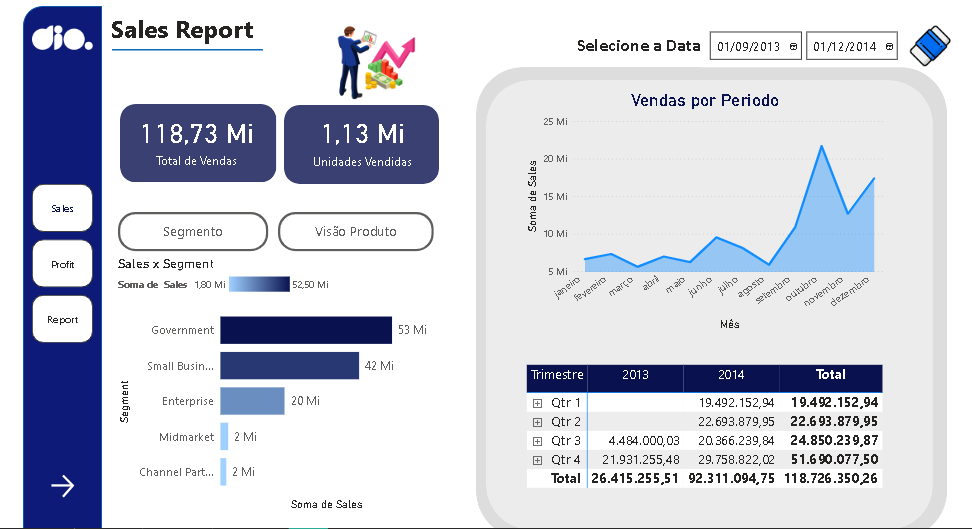

This screenshot's page, from the dashboard's own definition file:
{"tool":"powerbi","page":{"name":"Sales","canvas":[1280,720],"ordinal":0},"visuals":[{"type":"shape","box":[29.9,7.8,103.9,711.7],"z":0},{"type":"shape","box":[157.3,137.1,205.8,103.1],"z":0,"group":"g1"},{"type":"group","id":"g1","title":"Cartôes","box":[147.4,28,430.6,214],"z":1000},{"type":"shape","box":[374,138.2,204,103.8],"z":1000,"group":"g1"},{"type":"clusteredBarChart","title":"Sales x Segment","fields":{"Y":["Sum(financials. Sales)"],"Category":["financials.Segment"]},"box":[150,336.3,426,340.3],"z":1000,"group":"g2"},{"type":"textbox","box":[140.8,9.1,213.9,60.3],"z":2000},{"type":"card","fields":{"Values":["Sum(financials.Units Sold)"]},"box":[379.1,139.6,195.6,87.6],"z":2000,"group":"g1"},{"type":"actionButton","title":"B Segmento","box":[155.9,278.3,197.7,51.6],"z":2000,"group":"g2"},{"type":"shape","box":[626.7,88.3,620,620],"z":3000},{"type":"card","fields":{"Values":["Sum(financials. Sales)"]},"box":[159.2,135.4,198.1,93.3],"z":3000,"group":"g1"},{"type":"actionButton","title":"B Produto","box":[365.3,278.3,205,51.6],"z":3000,"group":"g2"},{"type":"shape","box":[147.4,28,198.6,75.7],"z":4000,"group":"g1"},{"type":"slicer","fields":{"Values":["financials.Date"]},"box":[921.6,31.1,265.1,56.7],"z":4000},{"type":"textbox","box":[754,40,180,48],"z":5000},{"type":"group","id":"g2","title":"Sales x Segment","box":[150,278.3,426,398.3],"z":6000},{"type":"actionButton","box":[61.7,620,60,40],"z":7000},{"type":"image","box":[41.7,10,80,78.3],"z":8000},{"type":"image","box":[1186.7,31.1,75,56.7],"z":9000},{"type":"shape","box":[640,105,588.3,591.7],"z":10000},{"type":"actionButton","box":[1192.2,31.1,71.3,56.7],"z":11000},{"type":"areaChart","title":"Vendas por Periodo","fields":{"Category":["financials.Date.Variation.Hierarquia de datas.Ano","financials.Date.Variation.Hierarquia de datas.Trimestre","financials.Date.Variation.Hierarquia de datas.Mês"],"Y":["Sum(financials. Sales)"]},"box":[687.2,118,482.2,321.5],"z":12000},{"type":"pivotTable","fields":{"Columns":["financials.Date.Variation.Hierarquia de datas.Ano"],"Rows":["financials.Date.Variation.Hierarquia de datas.Trimestre","financials.Date.Variation.Hierarquia de datas.Mês"],"Values":["Sum(financials. Sales)"]},"box":[687.5,475,482.5,185],"z":13000},{"type":"pageNavigator","box":[41.7,241.7,80,211.7],"z":14000},{"type":"image","box":[422.9,7.1,174.3,151.4],"z":15000}]}

Visuals, with their boxes on the page's 1280x720 design canvas (x1, y1, x2, y2). These are canvas units, not pixel positions in the 972x529 screenshot, which may show the page scaled, cropped or inside an application window:
shape: [30,8,134,720]
shape: [157,137,363,240]
"Cartôes" group: [147,28,578,242]
shape: [374,138,578,242]
"Sales x Segment" clusteredBarChart: [150,336,576,677]
textbox: [141,9,355,69]
card - Sum(financials.Units Sold): [379,140,575,227]
"B Segmento" actionButton: [156,278,354,330]
shape: [627,88,1247,708]
card - Sum(financials. Sales): [159,135,357,229]
"B Produto" actionButton: [365,278,570,330]
shape: [147,28,346,104]
slicer - financials.Date: [922,31,1187,88]
textbox: [754,40,934,88]
"Sales x Segment" group: [150,278,576,677]
actionButton: [62,620,122,660]
image: [42,10,122,88]
image: [1187,31,1262,88]
shape: [640,105,1228,697]
actionButton: [1192,31,1264,88]
"Vendas por Periodo" areaChart: [687,118,1169,440]
pivotTable - financials.Date.Variation.Hierarquia de datas.Ano x financials.Date.Variation.Hierarquia de datas.Trimestre: [688,475,1170,660]
pageNavigator: [42,242,122,453]
image: [423,7,597,158]
